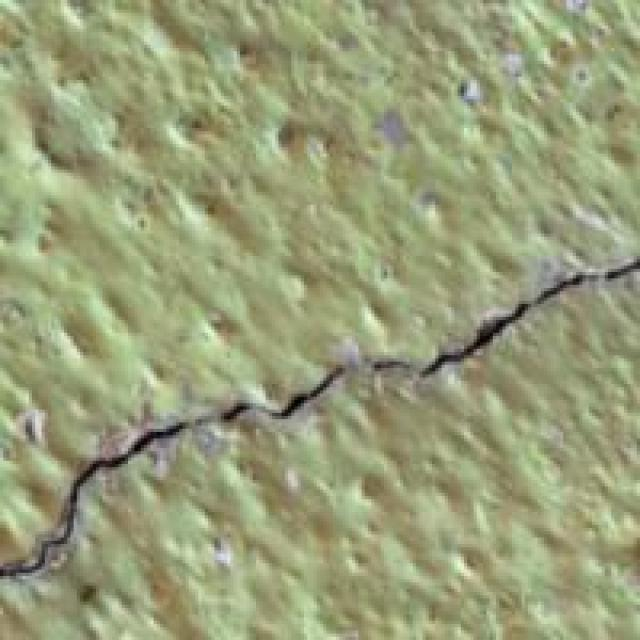crack: (0, 236, 640, 572)
